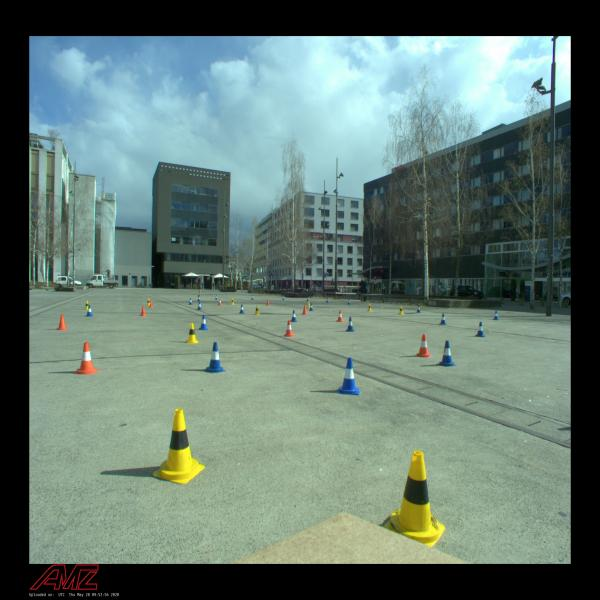blue_cone: (338, 358, 360, 395), (203, 342, 226, 374), (437, 340, 457, 367), (474, 322, 486, 337), (346, 317, 355, 332), (199, 315, 208, 330), (85, 305, 93, 317), (290, 310, 298, 322), (439, 313, 447, 325), (239, 304, 245, 314), (493, 311, 499, 320), (416, 305, 422, 313), (309, 303, 314, 311), (198, 302, 202, 310), (189, 298, 193, 305), (197, 296, 201, 301), (347, 300, 351, 304), (215, 295, 218, 300), (252, 295, 255, 300), (282, 296, 285, 300), (306, 297, 309, 301), (326, 298, 328, 303)
orange_cone: (73, 342, 99, 374), (415, 334, 432, 358), (56, 314, 69, 330), (283, 320, 295, 337), (336, 310, 344, 322), (140, 305, 147, 316), (301, 305, 308, 315), (149, 300, 154, 308), (266, 299, 270, 306), (218, 299, 222, 305)
yellow_cone: (383, 450, 445, 547), (152, 408, 205, 484), (185, 323, 199, 343), (254, 305, 261, 315), (84, 301, 90, 310), (398, 306, 404, 315), (367, 303, 372, 312), (230, 298, 235, 305), (147, 298, 151, 306), (307, 301, 311, 308)
